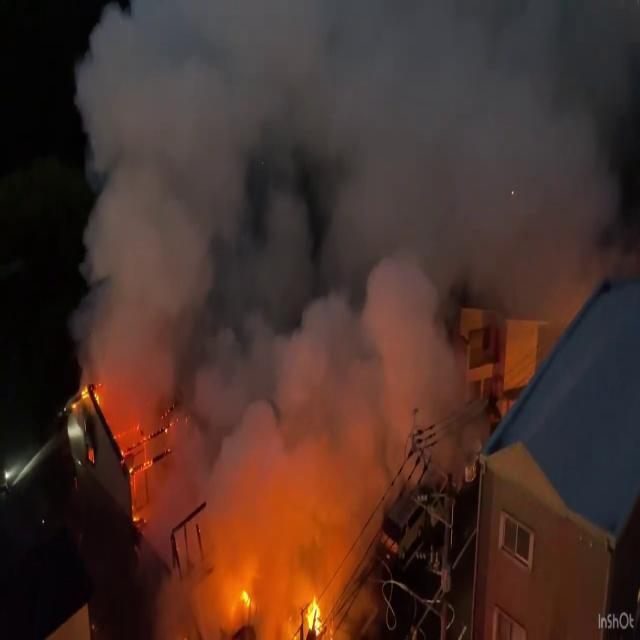Smoke: (65, 0, 639, 605)
